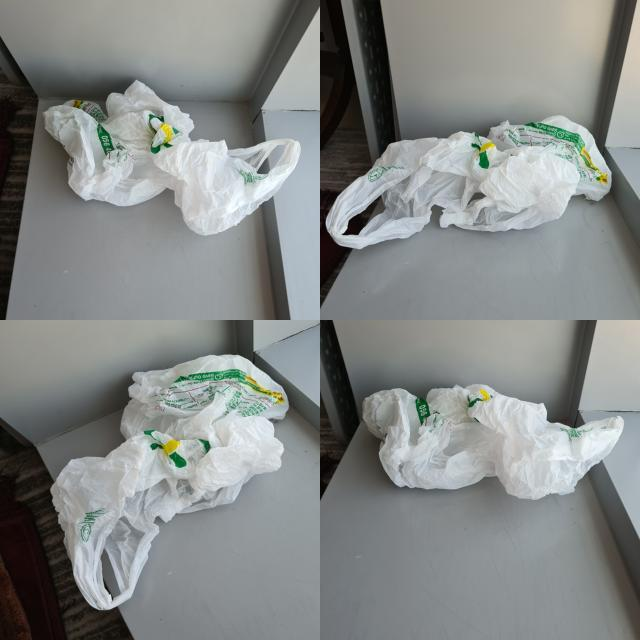Single-layer Plastic: (51, 355, 289, 609), (44, 80, 301, 235), (328, 116, 611, 249), (362, 384, 624, 500)
